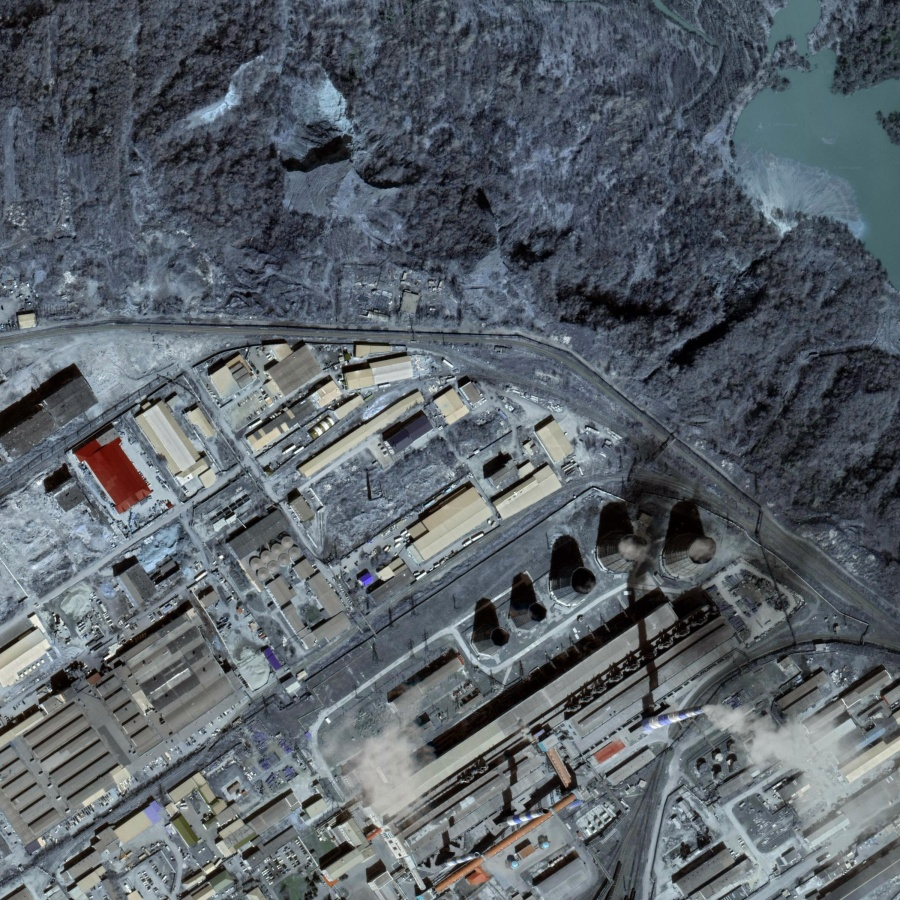PowerPlant: (373, 478, 820, 848)
